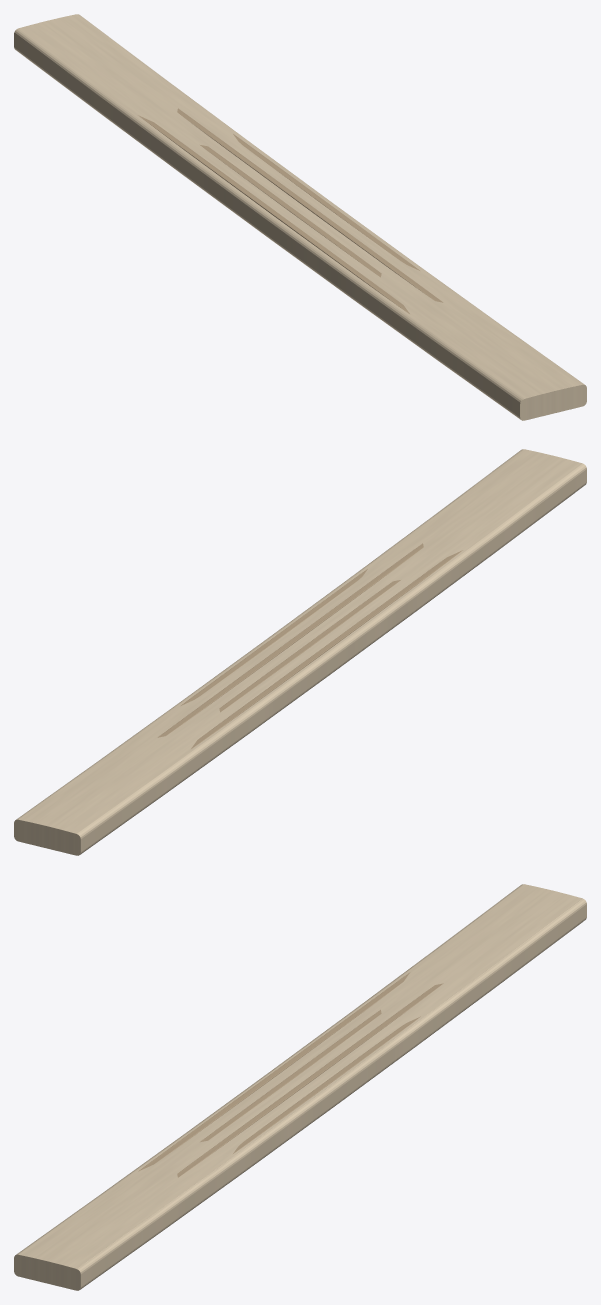
The model's file is beach_boardwalk_plank.glb.
3 renders of one model, top to bottom at view 1: azimuth 30°, elevation 25°; view 2: azimuth 150°, elevation 25°; view 3: azimuth 330°, elevation 25°, orthographic.
Parts seen in each view (by area): view 1: beach_boardwalk_plank_plank, beach_boardwalk_plank_grain0, beach_boardwalk_plank_grain2, beach_boardwalk_plank_grain1, beach_boardwalk_plank_grain3; view 2: beach_boardwalk_plank_plank, beach_boardwalk_plank_grain0, beach_boardwalk_plank_grain2, beach_boardwalk_plank_grain1, beach_boardwalk_plank_grain3; view 3: beach_boardwalk_plank_plank, beach_boardwalk_plank_grain2, beach_boardwalk_plank_grain0, beach_boardwalk_plank_grain3, beach_boardwalk_plank_grain1.
Part boxes in pixels (bbox=[...]): beach_boardwalk_plank_plank: bbox=[14, 14, 586, 420]; beach_boardwalk_plank_grain0: bbox=[138, 115, 409, 313]; beach_boardwalk_plank_grain2: bbox=[177, 108, 443, 302]; beach_boardwalk_plank_grain1: bbox=[200, 145, 381, 277]; beach_boardwalk_plank_grain3: bbox=[233, 134, 419, 270]; beach_boardwalk_plank_plank: bbox=[14, 449, 586, 855]; beach_boardwalk_plank_grain0: bbox=[191, 550, 462, 748]; beach_boardwalk_plank_grain2: bbox=[157, 543, 423, 737]; beach_boardwalk_plank_grain1: bbox=[219, 580, 400, 712]; beach_boardwalk_plank_grain3: bbox=[181, 569, 367, 705]; beach_boardwalk_plank_plank: bbox=[14, 884, 586, 1290]; beach_boardwalk_plank_grain2: bbox=[177, 983, 443, 1177]; beach_boardwalk_plank_grain0: bbox=[138, 972, 410, 1171]; beach_boardwalk_plank_grain3: bbox=[233, 1016, 420, 1153]; beach_boardwalk_plank_grain1: bbox=[200, 1009, 381, 1142].
Bounding box in the file's own units: 0.145 × 0.0525 × 1.9.
3 materials, 3 textured.
